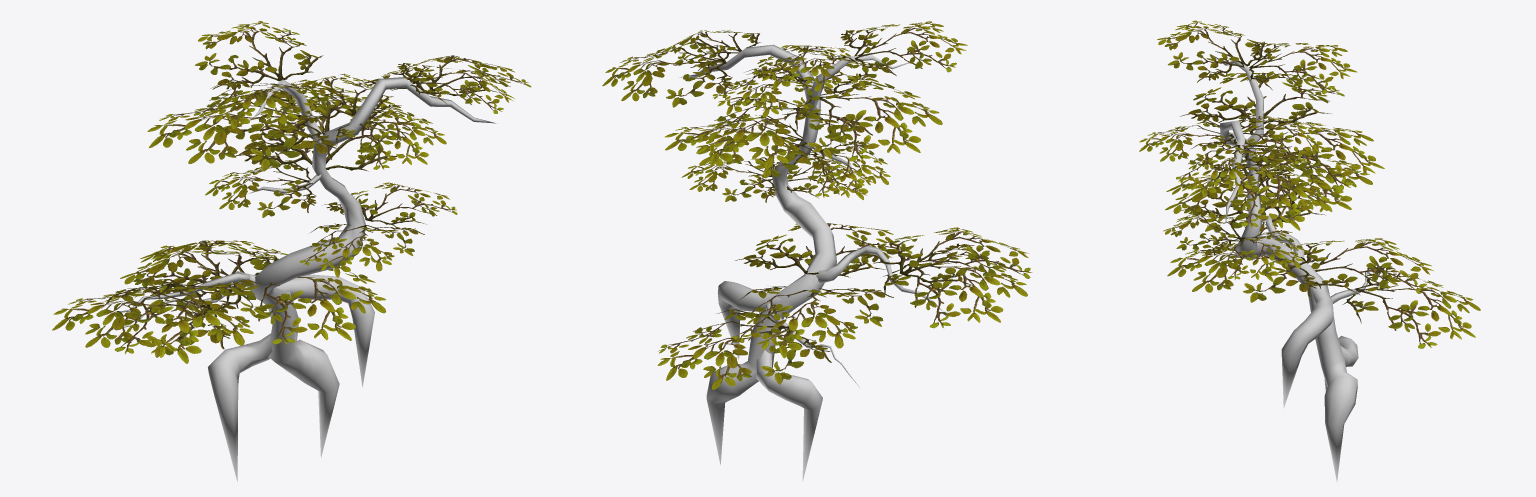
File: environment_Tree_yellow_004_a.FBX
The picture shows the model from 3 angles, left to right: view 1: azimuth 30°, elevation 25°; view 2: azimuth 150°, elevation 25°; view 3: azimuth 270°, elevation 25°; orthographic projection. The views are drawn at different scales.
Visible parts, largest first — view 1: environment_Tree_yellow_004_a, environment_Tree_yellow_004_b; view 2: environment_Tree_yellow_004_a, environment_Tree_yellow_004_b; view 3: environment_Tree_yellow_004_a, environment_Tree_yellow_004_b.
Boxes of the visible parts, x1,y1,x2,y2 form: environment_Tree_yellow_004_a: (52,21,531,363); environment_Tree_yellow_004_b: (110,77,495,481); environment_Tree_yellow_004_a: (602,21,1032,389); environment_Tree_yellow_004_b: (679,44,943,481); environment_Tree_yellow_004_a: (1139,20,1480,348); environment_Tree_yellow_004_b: (1212,55,1381,481).
Size of the model in its own units: 2158 by 1831 by 1709.
